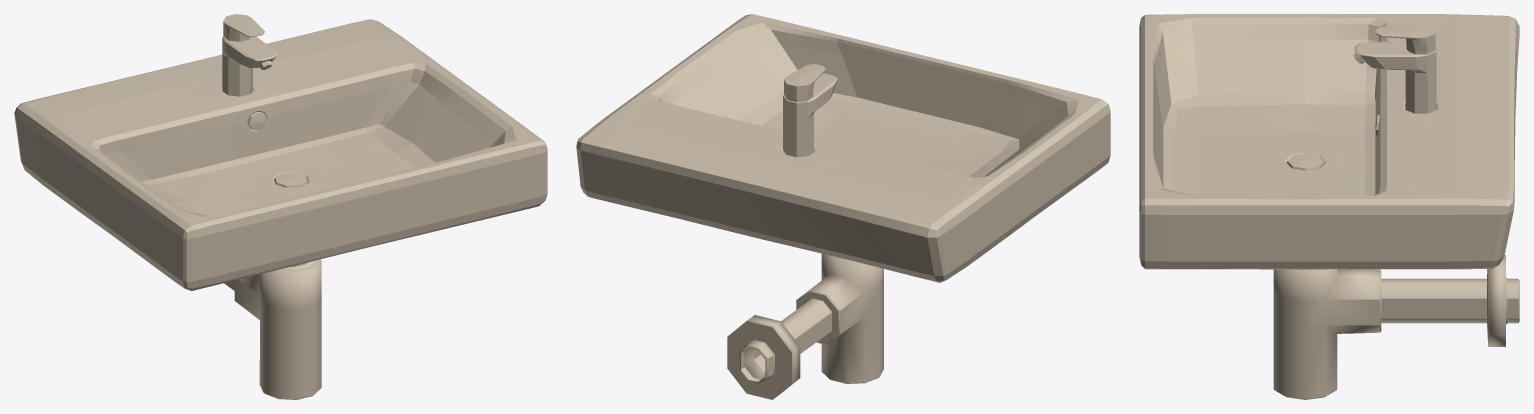
Rendered from square_washbasin_14_L.fbx.
3 views of the same model, side by side, from view 1: azimuth 30°, elevation 25°; view 2: azimuth 150°, elevation 25°; view 3: azimuth 270°, elevation 25° (orthographic). The views are drawn at different scales.
Visible parts, largest first — view 1: square_washbasin_14_L; view 2: square_washbasin_14_L; view 3: square_washbasin_14_L.
Part boxes in pixels (x1,y1,x2,y2): square_washbasin_14_L: (14, 14, 547, 399); square_washbasin_14_L: (576, 14, 1110, 399); square_washbasin_14_L: (1139, 14, 1519, 399).
Size of the model in its own units: 12.01 by 10.34 by 10.02.
